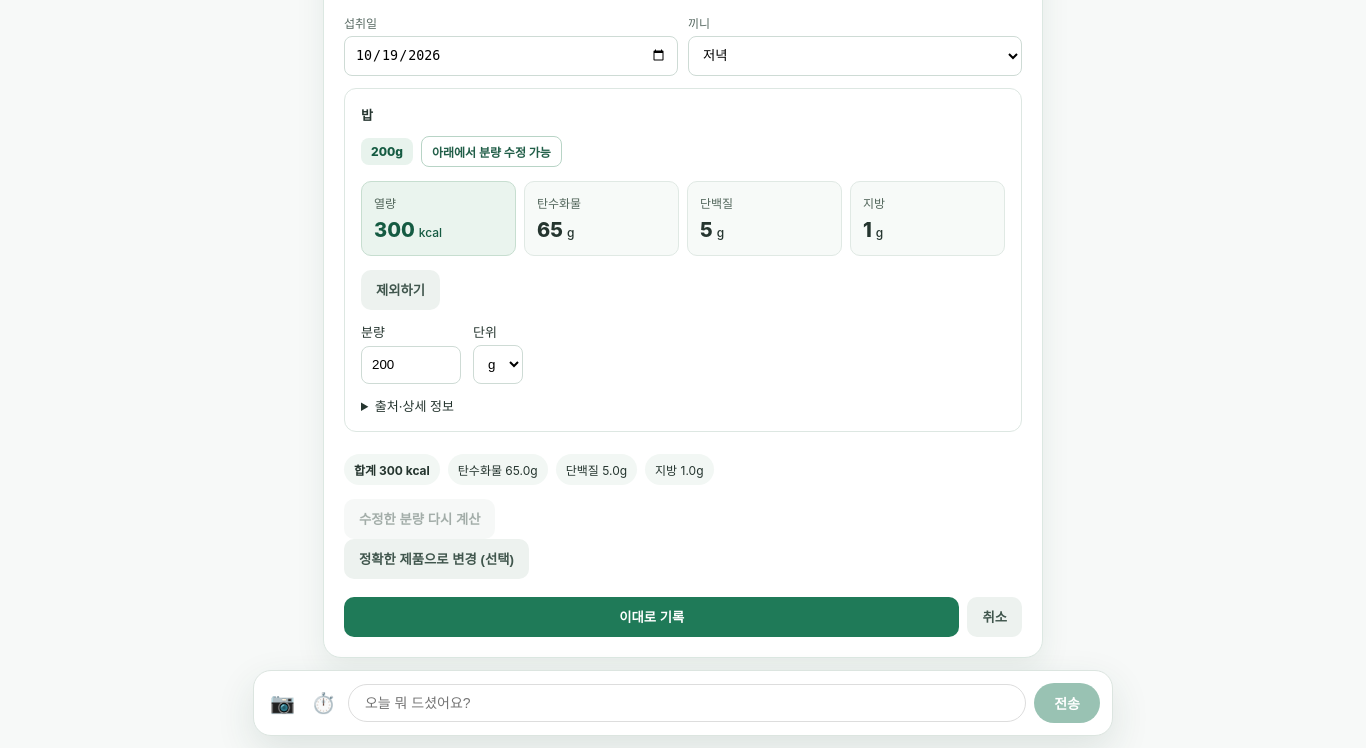
Test: chat confirmation shows recommendations only with server-confirmed intake metadata
This screenshot has width=1366, height=748.
(page scrolled)
Click the button "이대로 기록" at (652, 616), box [344, 596, 960, 636]
(page scrolled)
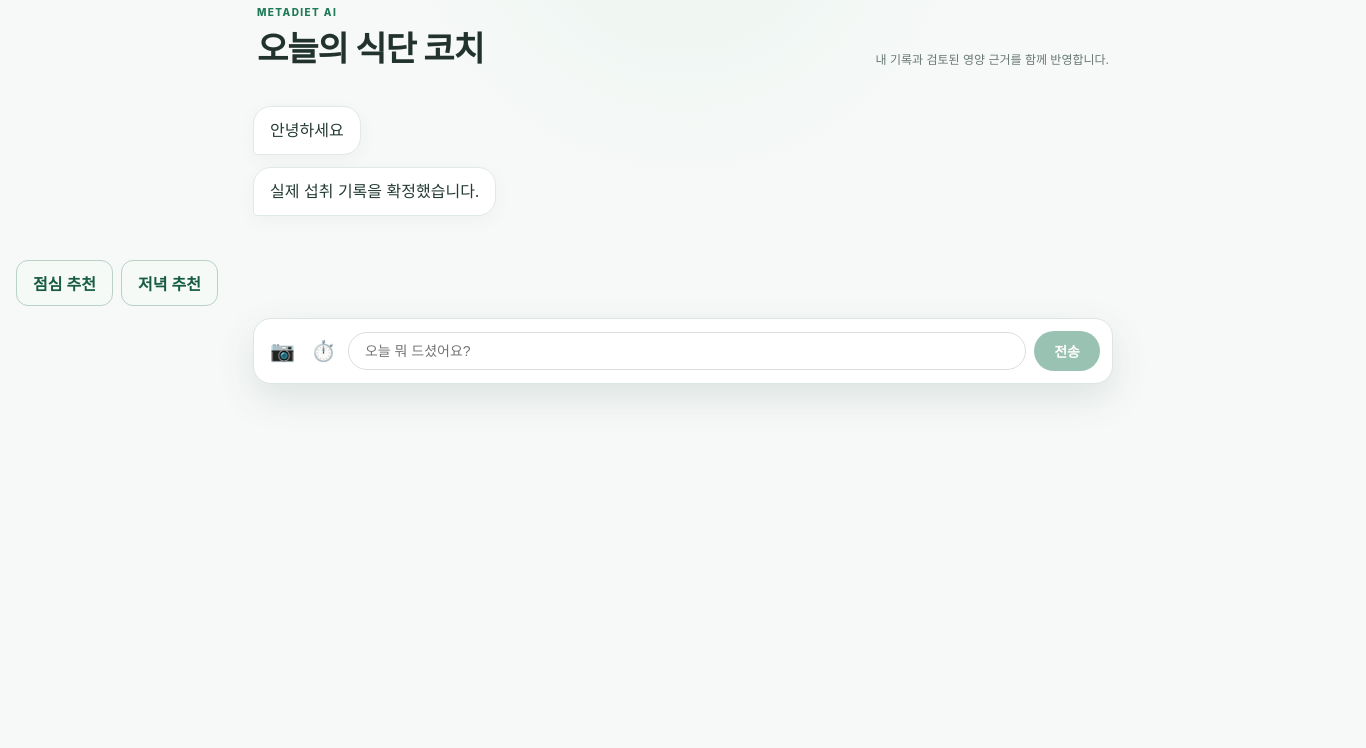
Check: the button "점심 추천" is shown, box [16, 260, 113, 306]
Check: the button "저녁 추천" is shown, box [121, 260, 218, 306]
